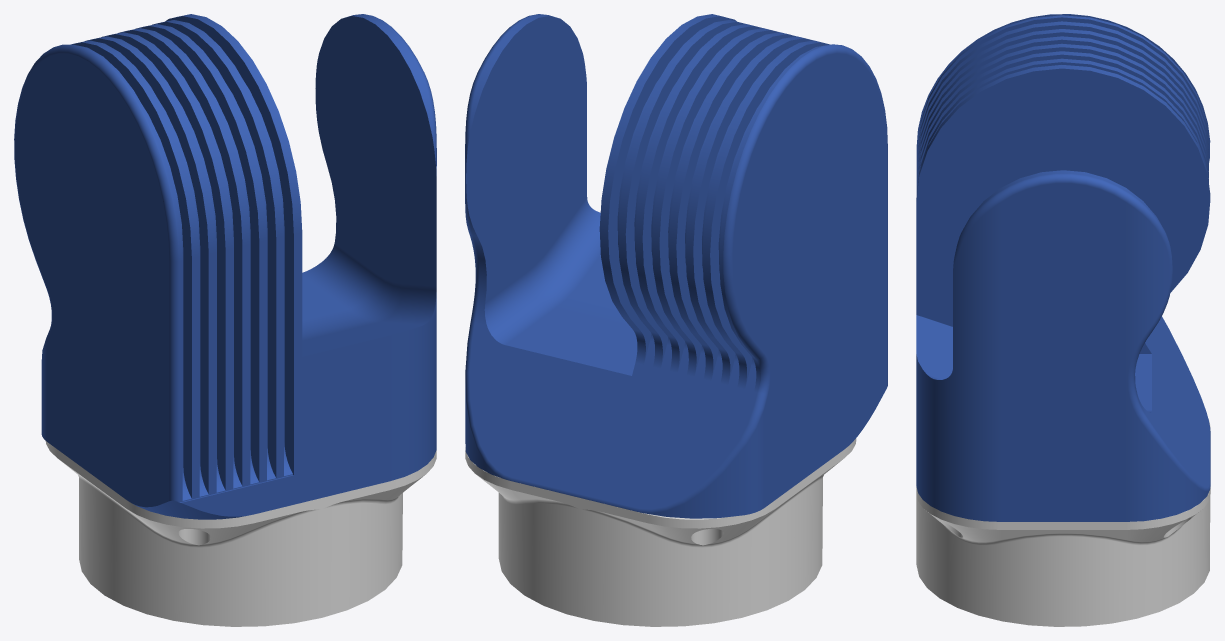
File: L_Shoulder_Pitch_Assy.obj
3 renders of one model, left to right at view 1: azimuth 30°, elevation 25°; view 2: azimuth 150°, elevation 25°; view 3: azimuth 270°, elevation 25°, orthographic. The views are drawn at different scales.
Visible parts, largest first — view 1: mesh193, mesh5, mesh170, mesh185, mesh264, mesh174, mesh201, mesh211, mesh221, mesh231, mesh255, mesh241 (+23 smaller); view 2: mesh193, mesh251, mesh5, mesh170, mesh162, mesh194, mesh201, mesh241, mesh221, mesh231, mesh255, mesh211 (+25 smaller); view 3: mesh176, mesh187, mesh5, mesh174, mesh175, mesh251, mesh166, mesh247, mesh227, mesh237, mesh261, mesh173 (+25 smaller).
Boxes of the visible parts, x1,y1,x2,y2 form: mesh193: [15, 53, 169, 507]; mesh5: [79, 478, 402, 626]; mesh170: [315, 16, 436, 286]; mesh185: [181, 232, 390, 516]; mesh264: [178, 235, 292, 502]; mesh174: [390, 165, 436, 480]; mesh201: [165, 16, 293, 474]; mesh211: [152, 21, 276, 477]; mesh221: [135, 26, 259, 481]; mesh231: [118, 30, 242, 485]; mesh255: [85, 38, 208, 493]; mesh241: [101, 34, 225, 489]; mesh193: [733, 53, 886, 507]; mesh251: [469, 324, 757, 508]; mesh5: [498, 478, 822, 626]; mesh170: [466, 16, 586, 302]; mesh162: [506, 309, 637, 375]; mesh194: [723, 44, 887, 346]; mesh201: [608, 16, 736, 360]; mesh241: [676, 34, 795, 378]; mesh221: [642, 26, 762, 370]; mesh231: [659, 30, 779, 373]; mesh255: [693, 38, 812, 383]; mesh211: [625, 21, 745, 365]; mesh176: [1001, 183, 1125, 521]; mesh187: [916, 68, 1210, 353]; mesh5: [916, 494, 1210, 626]; mesh174: [916, 202, 1000, 521]; mesh175: [1126, 202, 1209, 521]; mesh251: [1146, 316, 1209, 487]; mesh166: [916, 315, 952, 379]; mesh247: [918, 32, 1208, 165]; mesh227: [918, 47, 1208, 180]; mesh237: [918, 39, 1208, 173]; mesh261: [918, 17, 1208, 150]; mesh173: [996, 173, 1130, 201].
Bounding box in the file's own units: 0.106 × 0.19 × 0.1.
